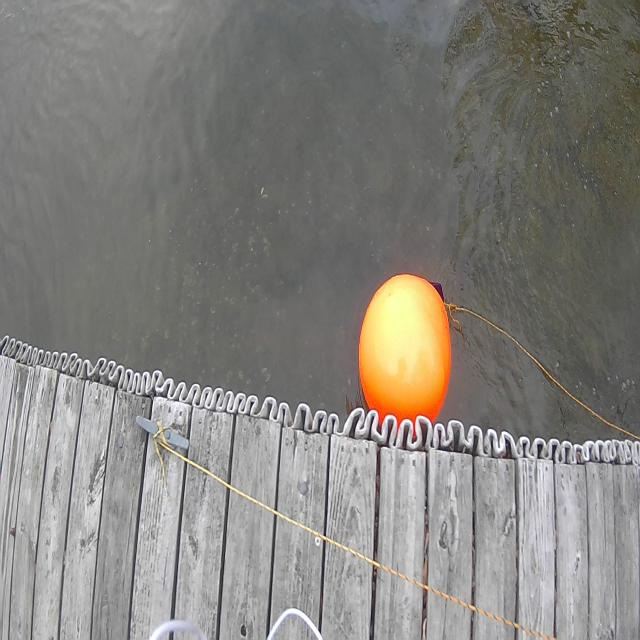Buoy: (357, 270, 452, 436)
